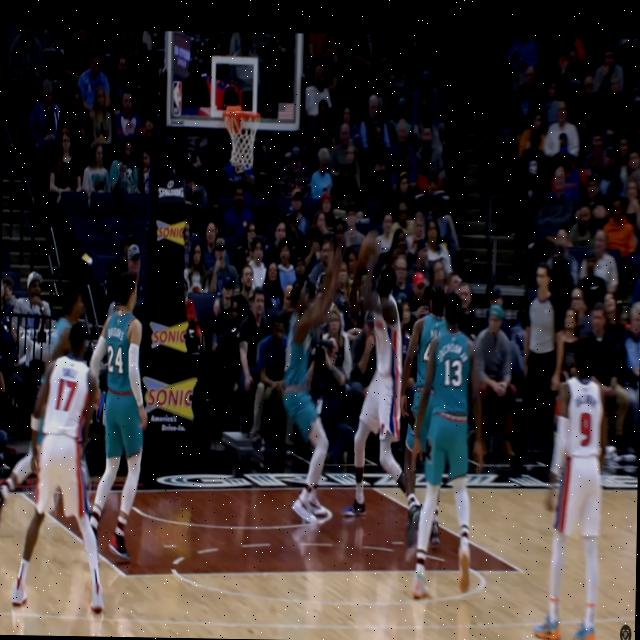no foul: (26, 272, 159, 600), (274, 240, 408, 538), (406, 285, 489, 598)
